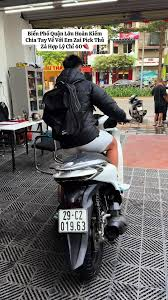Bien-so: (58, 208, 92, 233)
